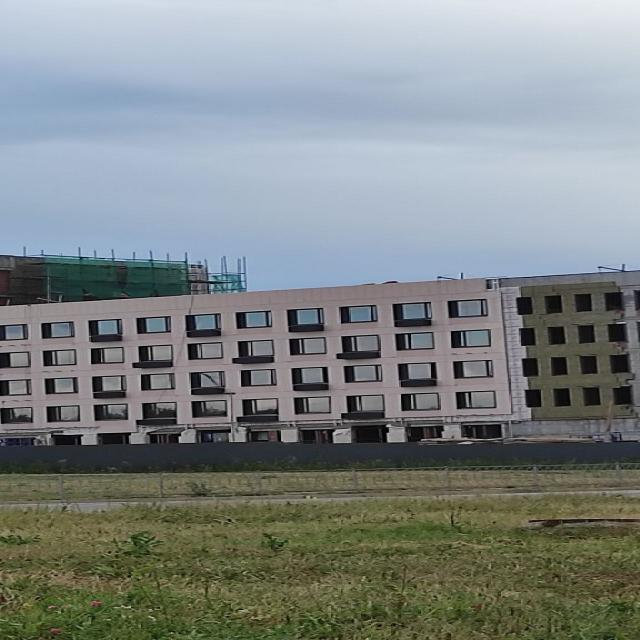Building: (0, 270, 640, 447)
